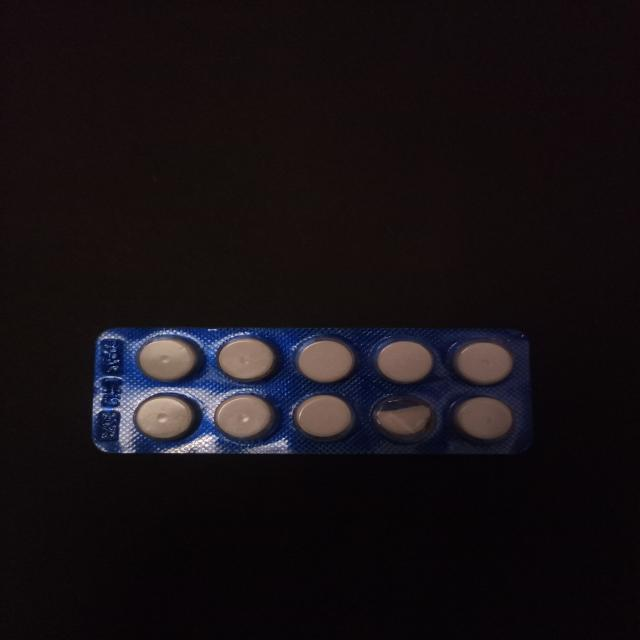defect: (367, 388, 439, 446)
